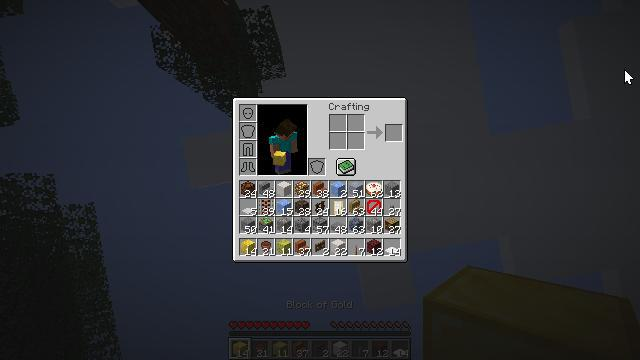cursor: (624, 69, 634, 85)
